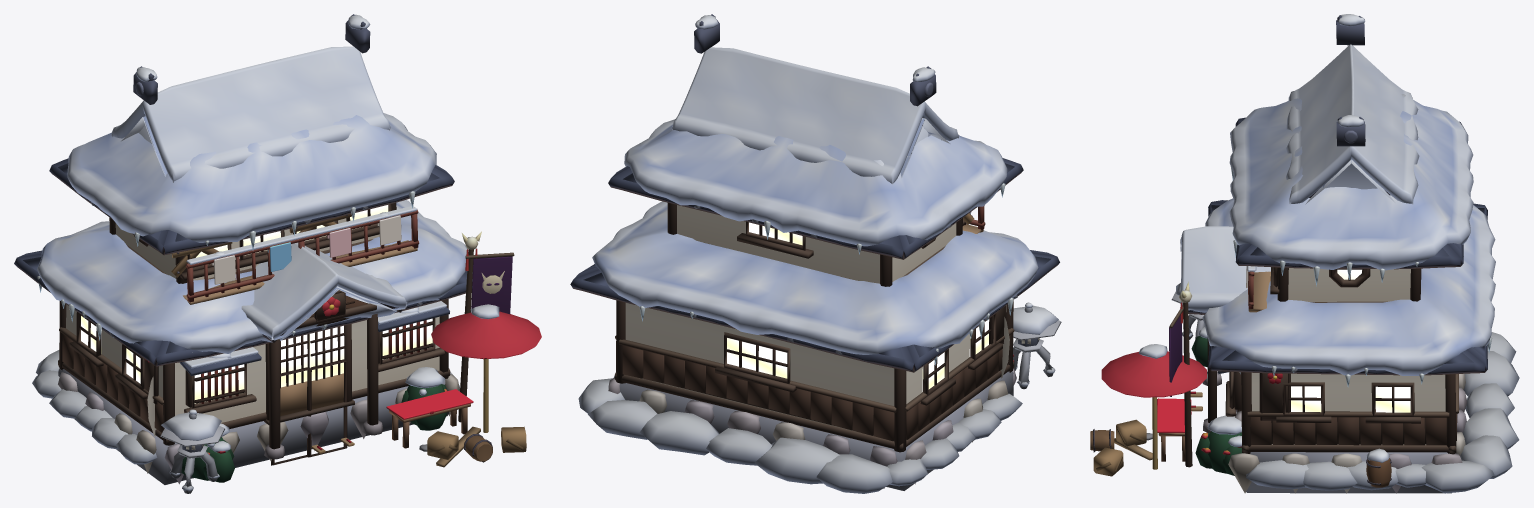
Rendered from zv-onsen-inn.glb.
3 views of the same model, side by side, from view 1: azimuth 30°, elevation 25°; view 2: azimuth 150°, elevation 25°; view 3: azimuth 270°, elevation 25° (orthographic). The views are drawn at different scales.
Visible parts, largest first — view 1: zv-onsen-inn, saved, siege, window_glow; view 2: zv-onsen-inn, window_glow; view 3: zv-onsen-inn, saved, siege, window_glow.
Part boxes in pixels (<box>): zv-onsen-inn: <box>14,14,472,493</box>; saved: <box>211,215,541,453</box>; siege: <box>147,214,526,467</box>; window_glow: <box>81,205,432,403</box>; zv-onsen-inn: <box>570,14,1061,493</box>; window_glow: <box>727,222,989,391</box>; zv-onsen-inn: <box>1171,14,1519,493</box>; saved: <box>1101,266,1248,469</box>; siege: <box>1090,281,1192,476</box>; window_glow: <box>1291,269,1410,412</box>.
Bounding box in the file's own units: 5.38 × 5.37 × 5.75.
